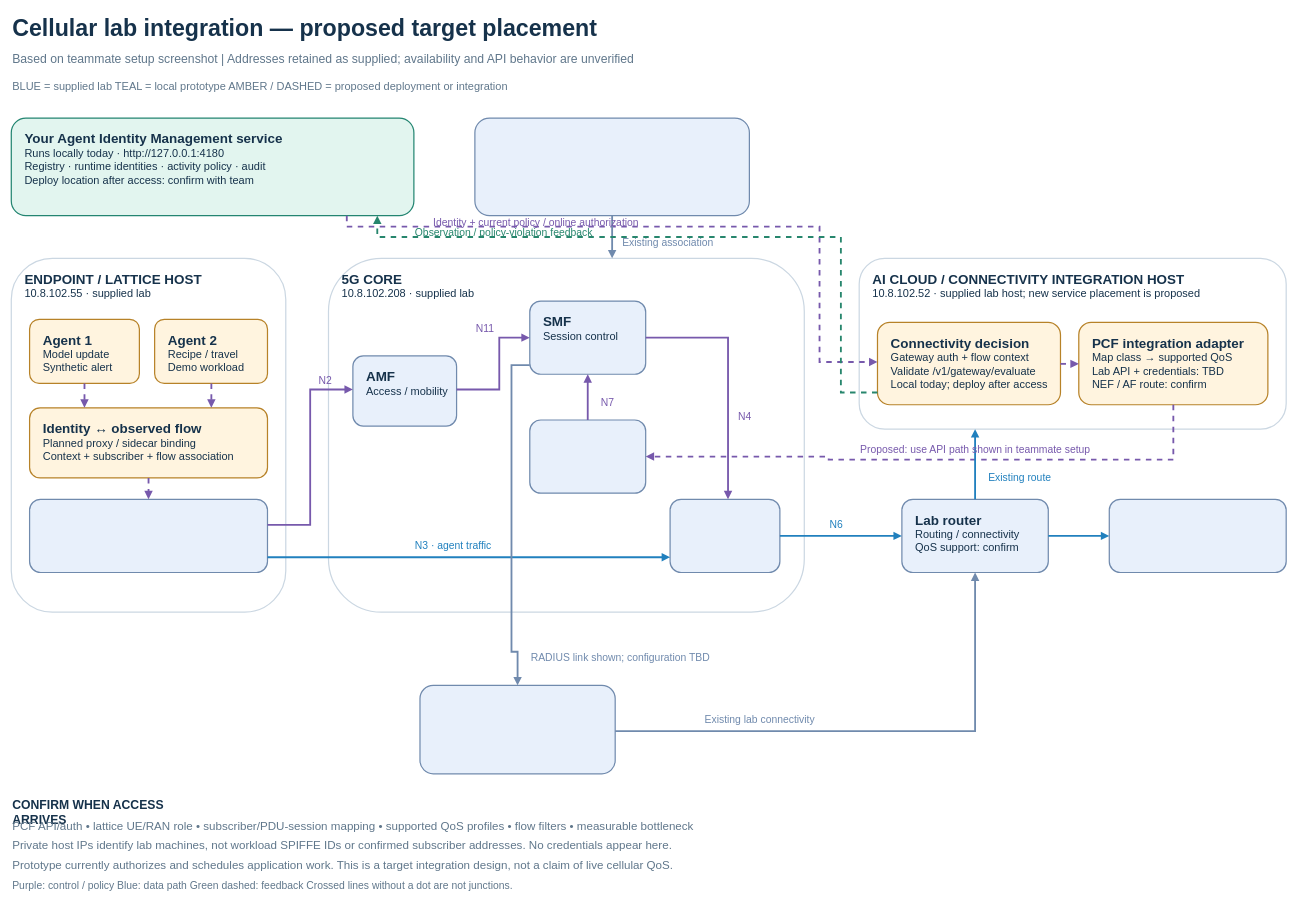
Image size: 1297x907. Some labels were removed from this diagram. Here are the shapes that lost their labels. From the top down, the centre of each, then its label:
point 612,166: CC / UDR Supplied lab component Existing link to core; interface not labeled
point 587,456: PCF Policy control
point 148,535: lattice Supplied endpoint component Exact UE / RAN role: confirm
point 724,535: UPF User-plane flows
point 1197,535: Internet services Synthetic alerts / booking Recipes / model updates
point 517,729: ISE 10.8.95.13 RADIUS shown in supplied setup Keep separate from agent issuer
